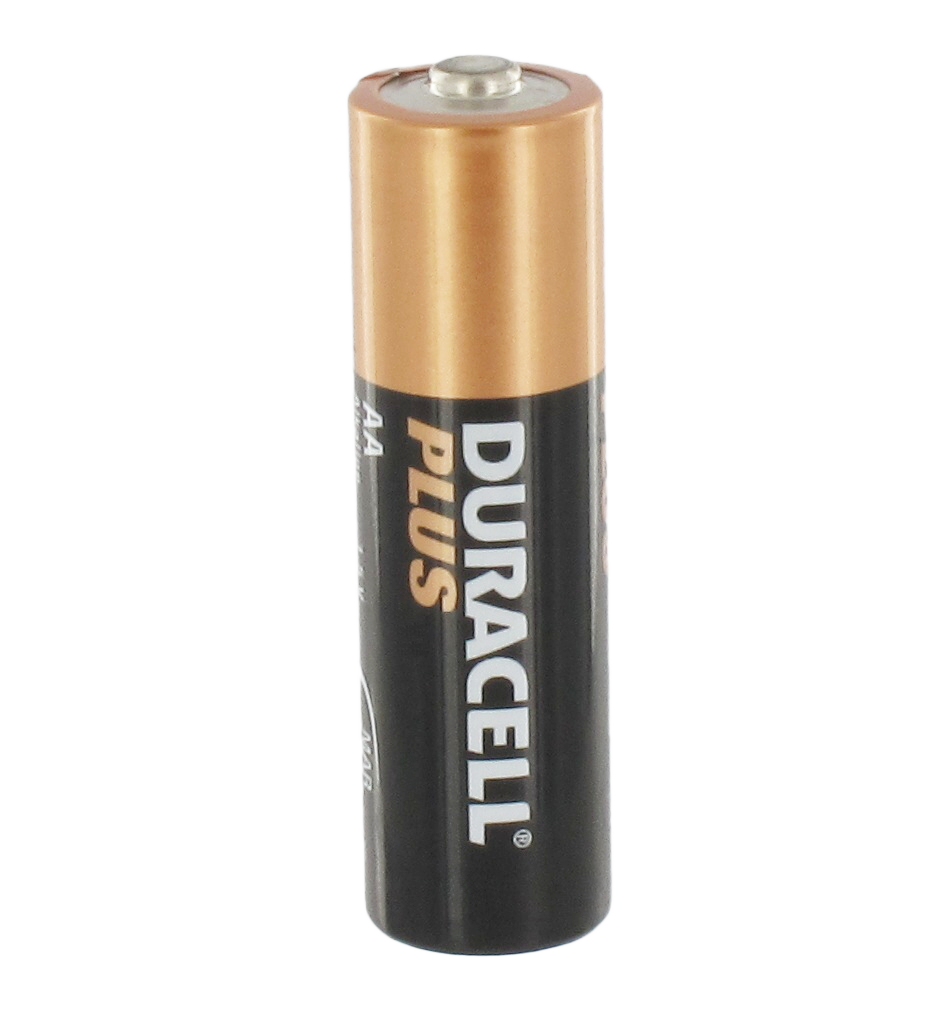Nonrec_Other: (339, 28, 638, 964)
